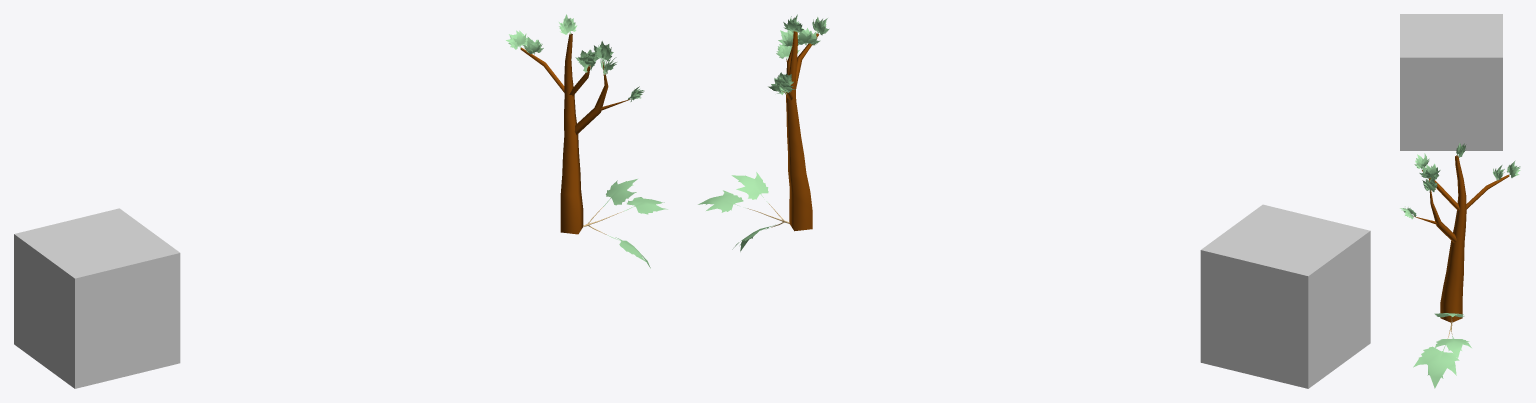
The model's file is FinalTree15.fbx.
3 renders of one model, left to right at view 1: azimuth 30°, elevation 25°; view 2: azimuth 150°, elevation 25°; view 3: azimuth 270°, elevation 25°, orthographic. The views are drawn at different scales.
Parts seen in each view (by area): view 1: Cube, Árbol; view 2: Cube, Árbol; view 3: Cube, Árbol, palmate.002, palmate.001.
Part boxes in pixels (x1,y1,x2,y2): Cube: [14, 208, 180, 388]; Árbol: [520, 33, 629, 234]; Cube: [1200, 204, 1370, 388]; Árbol: [782, 31, 818, 231]; Cube: [1400, 14, 1502, 150]; Árbol: [1413, 155, 1509, 322]; palmate.002: [1413, 345, 1459, 388]; palmate.001: [1435, 336, 1471, 357].
Size of the model in its own units: 1185 by 467 by 237.
